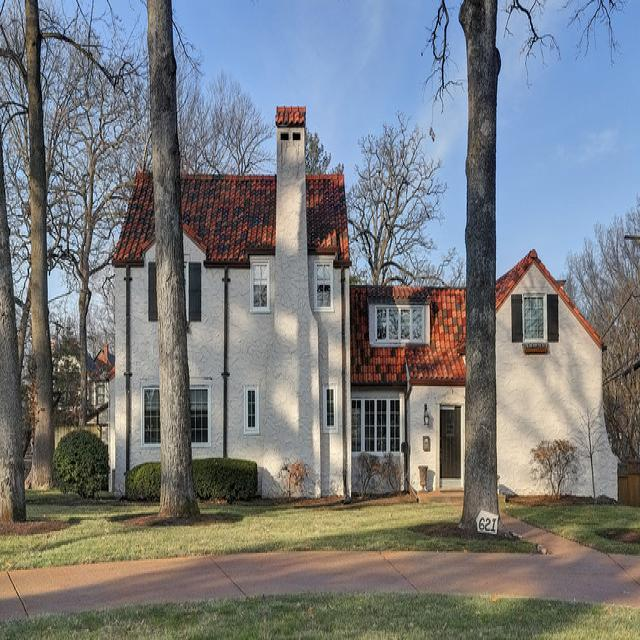Normal_building: (103, 98, 628, 512)
